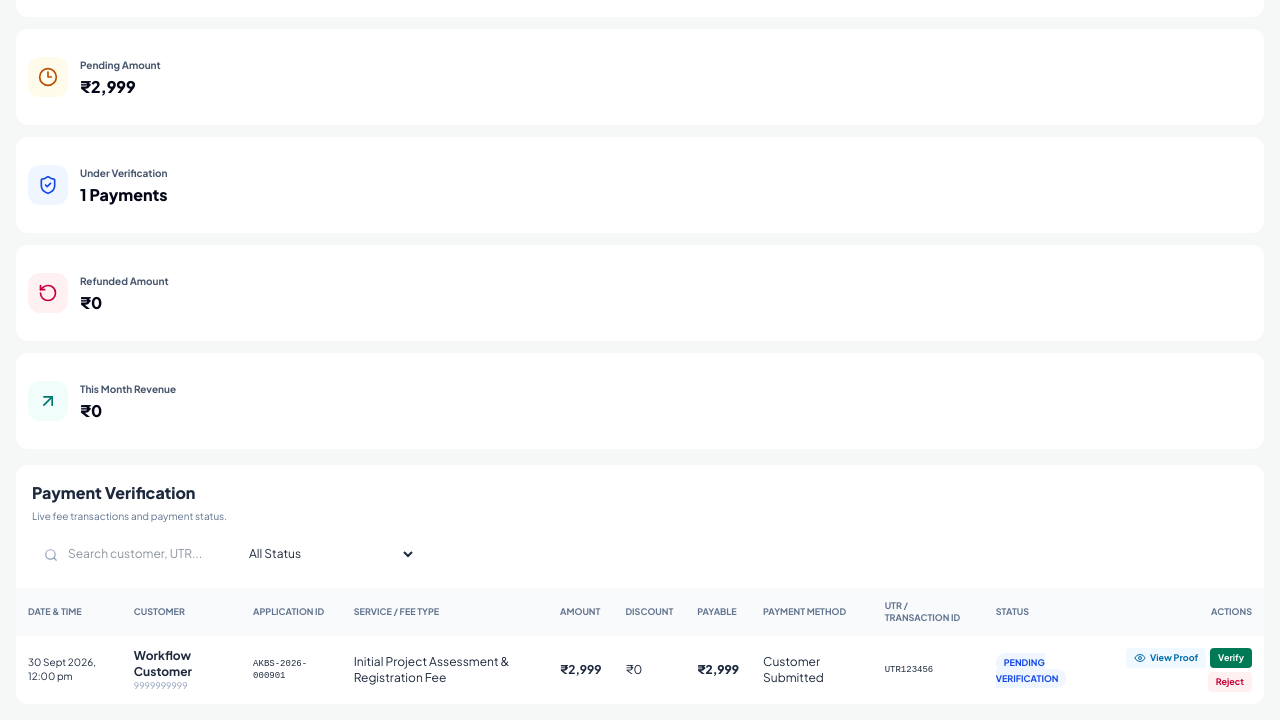
Test: reject updates payment without emailing or generating a receipt
(page scrolled)
Click the button "Reject".
click(1230, 682)  # box [1208,672,1252,692]
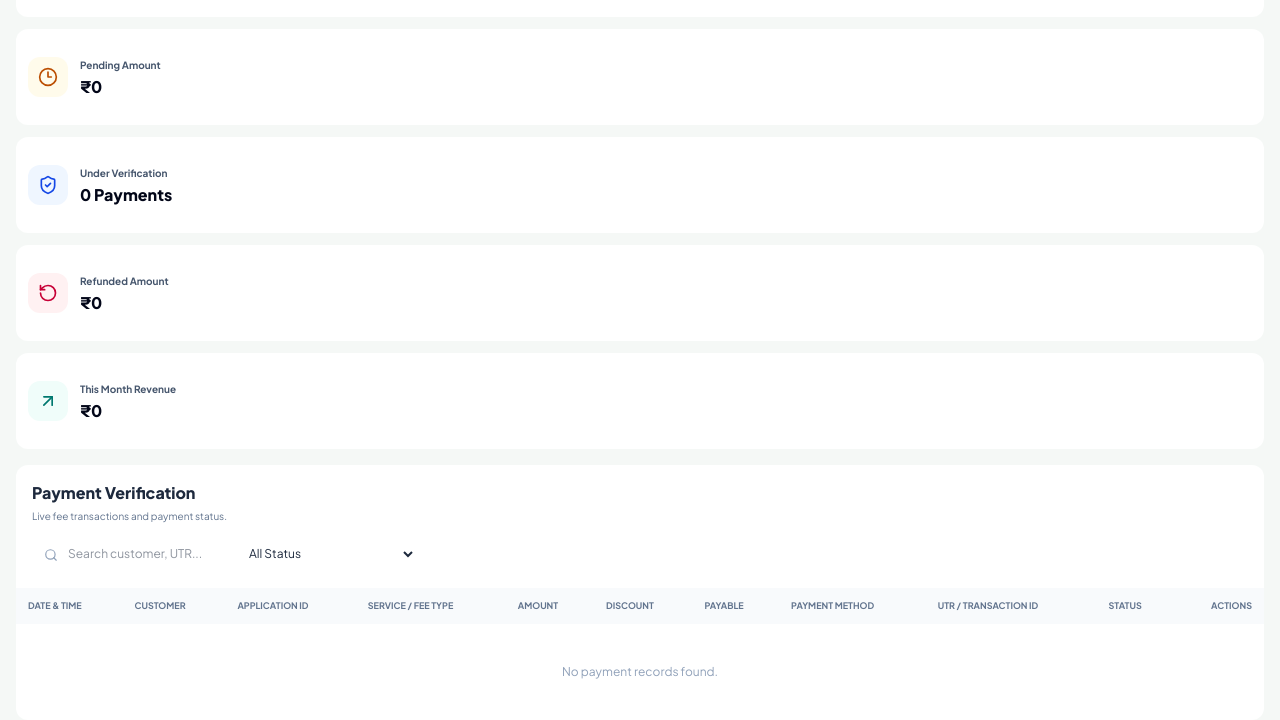
Now the text "No payment records found." is shown, box [16,624,1264,719]
